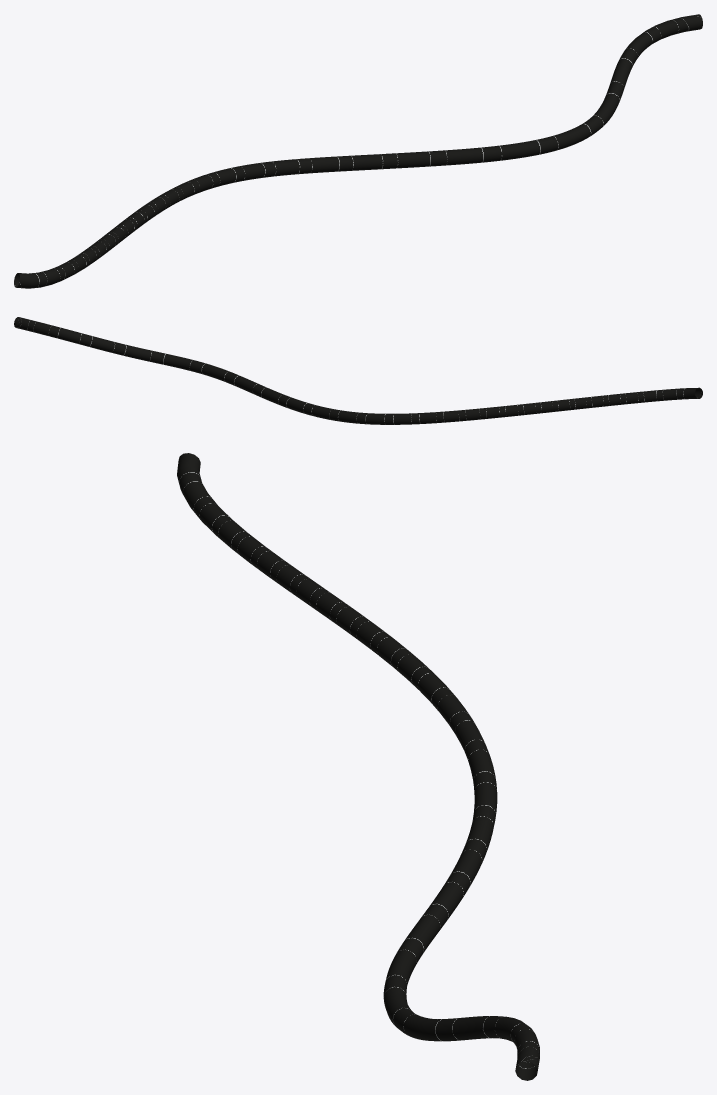
File: cable_l_1.glb
3 views of the same model, one above another, from view 1: azimuth 30°, elevation 25°; view 2: azimuth 150°, elevation 25°; view 3: azimuth 270°, elevation 25° (orthographic). The views are drawn at different scales.
Visible parts, largest first — view 1: NurbsPath.006; view 2: NurbsPath.006; view 3: NurbsPath.006.
Part boxes in pixels (box(x1,y1,x2,y2)): NurbsPath.006: box(14, 14, 702, 288); NurbsPath.006: box(14, 317, 702, 424); NurbsPath.006: box(177, 453, 539, 1080).
Size of the model in its own units: 7.69 by 0.6858 by 2.02.
Materials: 1 (1 with a texture image).
